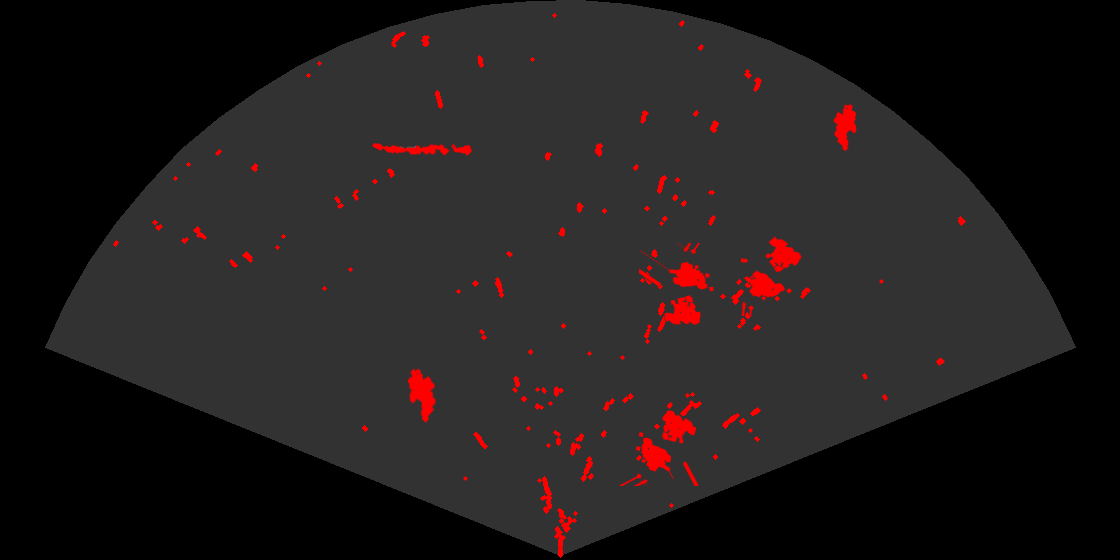AUV: (406, 367, 437, 425), (832, 102, 858, 153)
cage: (639, 243, 715, 327), (618, 409, 700, 486), (741, 235, 803, 316)
chain: (370, 142, 472, 157)
